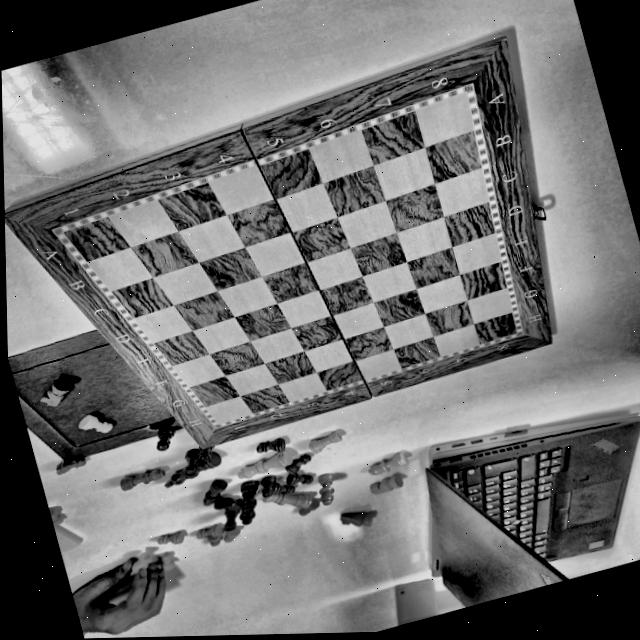chessboard: (5, 37, 554, 449)
